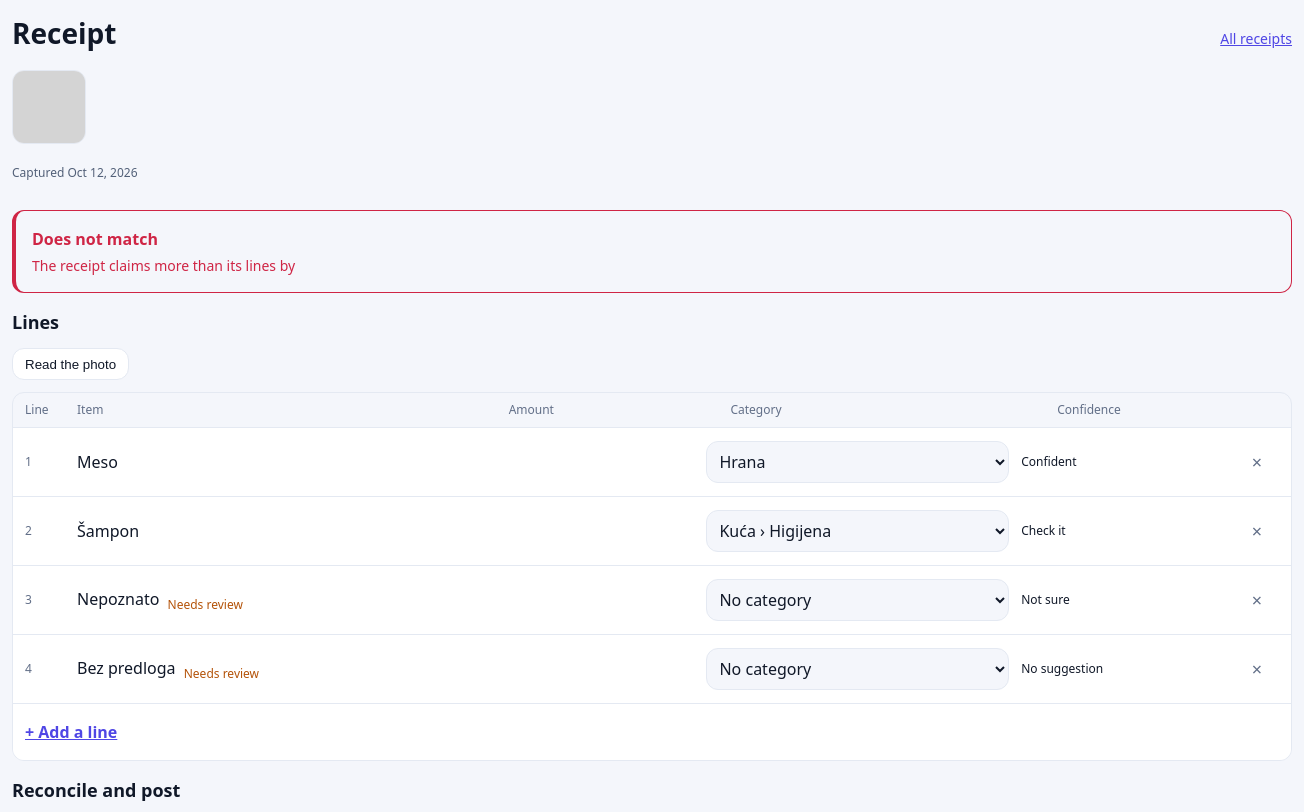
Test: ReceiptDetailComponent (mounted) › refuses a line whose amount cannot be read before it queries anything
Click the button "+ Add a line".
click(71, 732)  # box top-left (25, 716), bottom-right (117, 748)
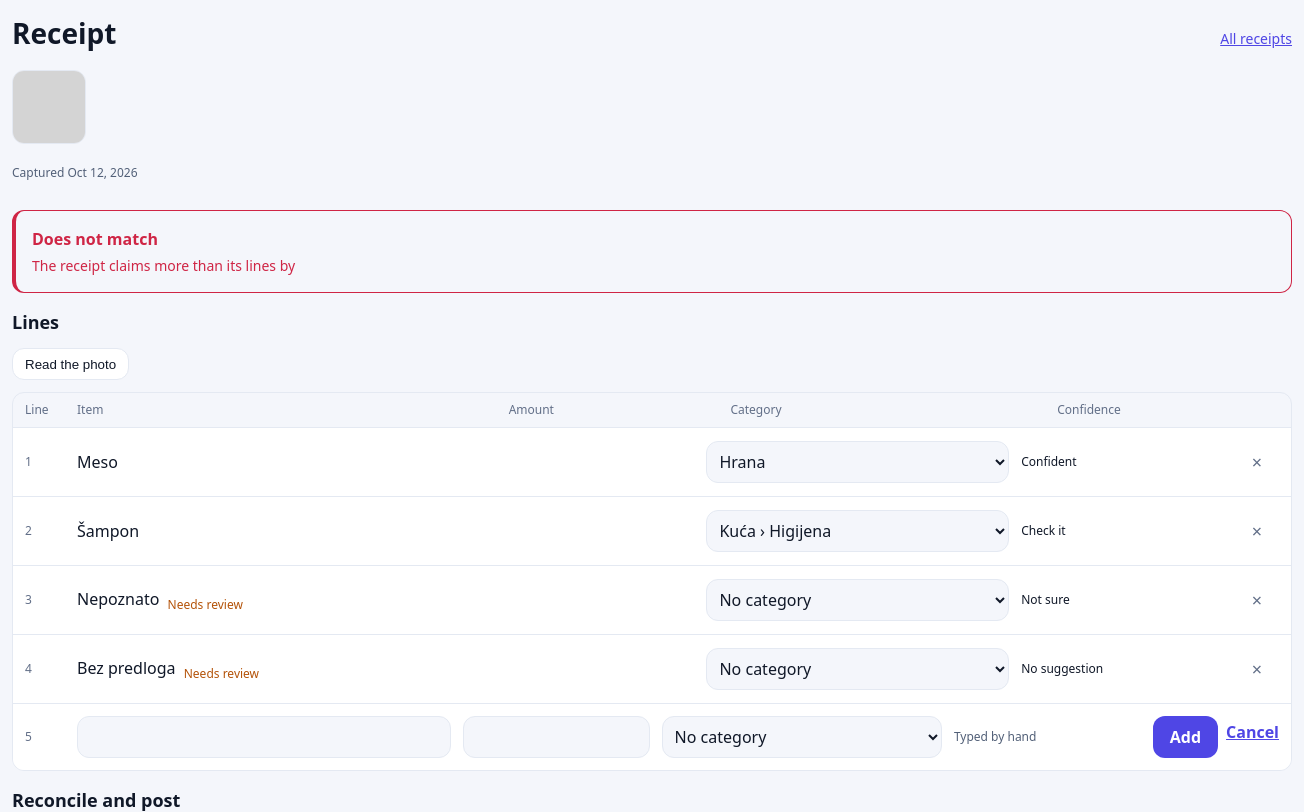
Type "Mleko" into the 1st field with class "items__input".
click(264, 737); type("Mleko")  # box top-left (77, 716), bottom-right (451, 758)
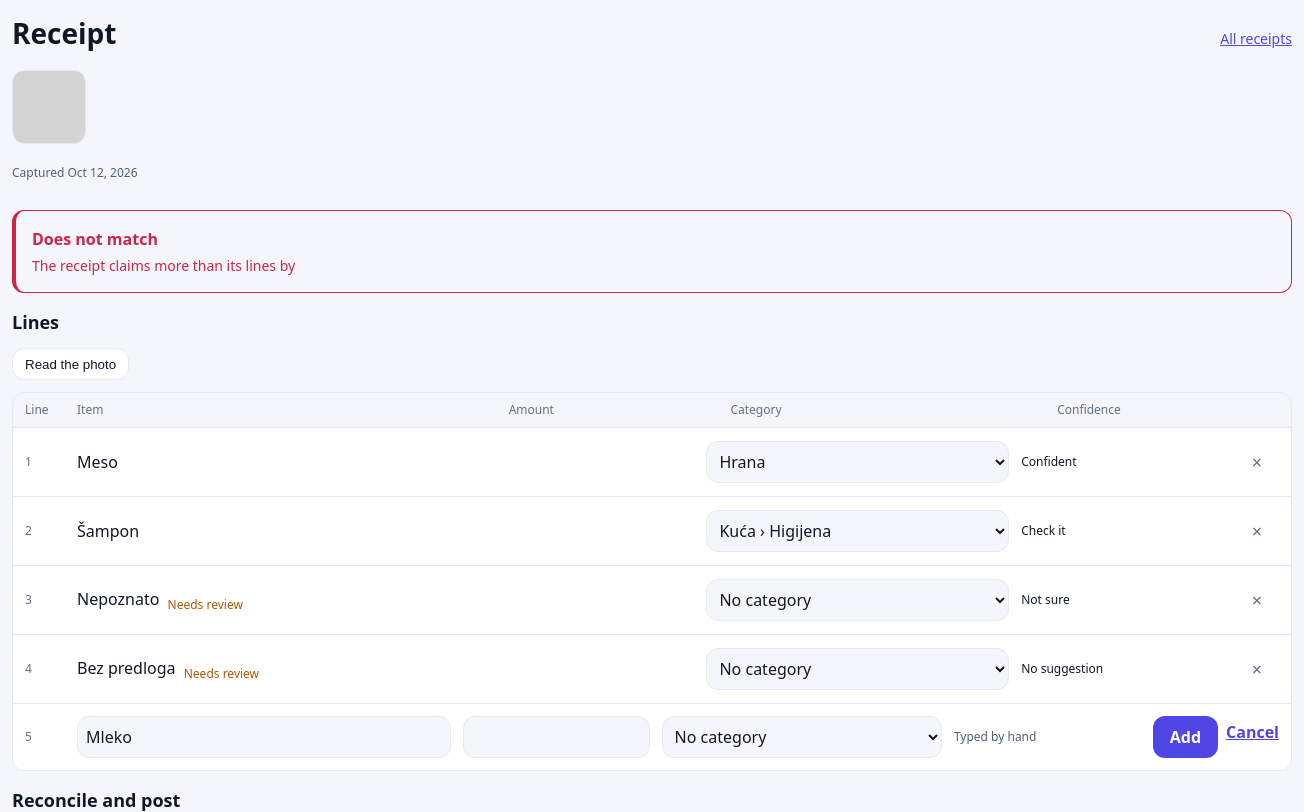
Type "nema" into the 2nd field with class "items__input".
click(556, 737); type("nema")  # box top-left (463, 716), bottom-right (650, 758)
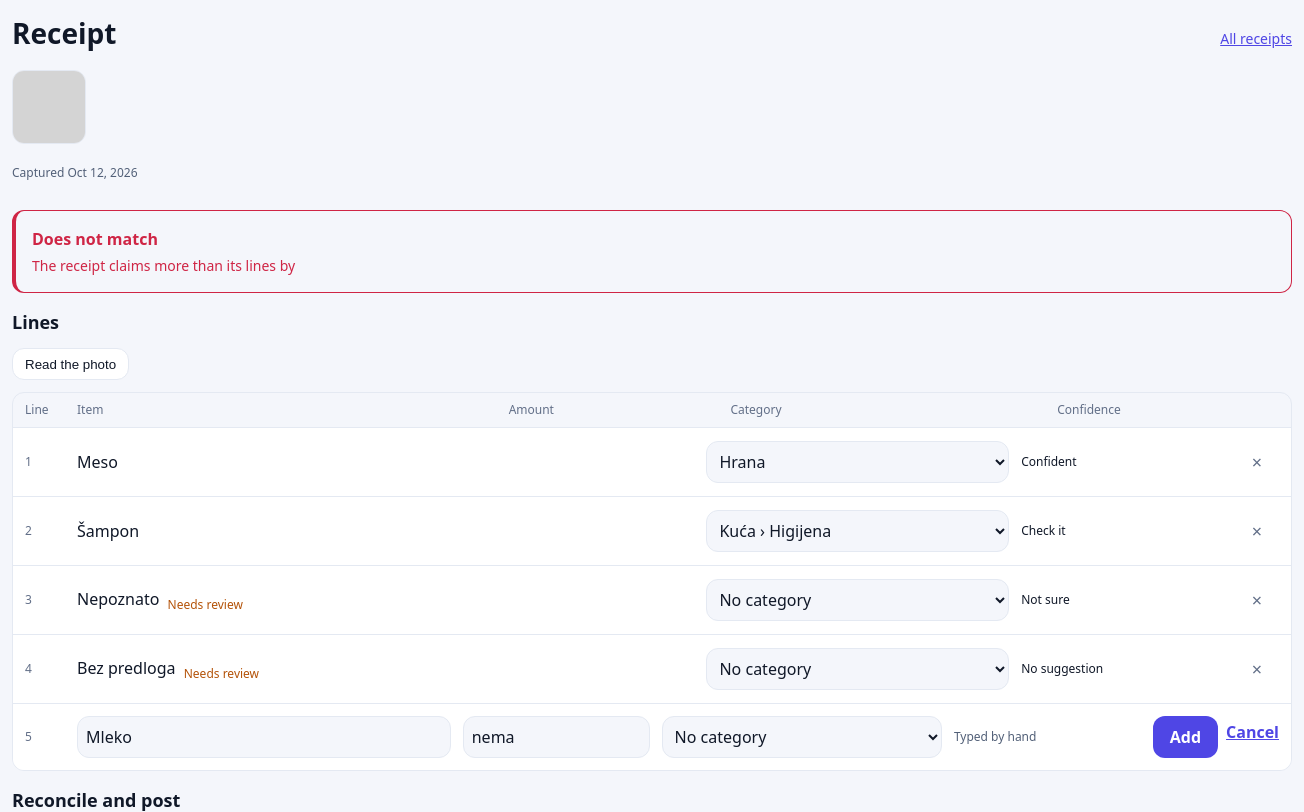
Click the button "Add".
click(1185, 737)  # box top-left (1153, 716), bottom-right (1218, 758)
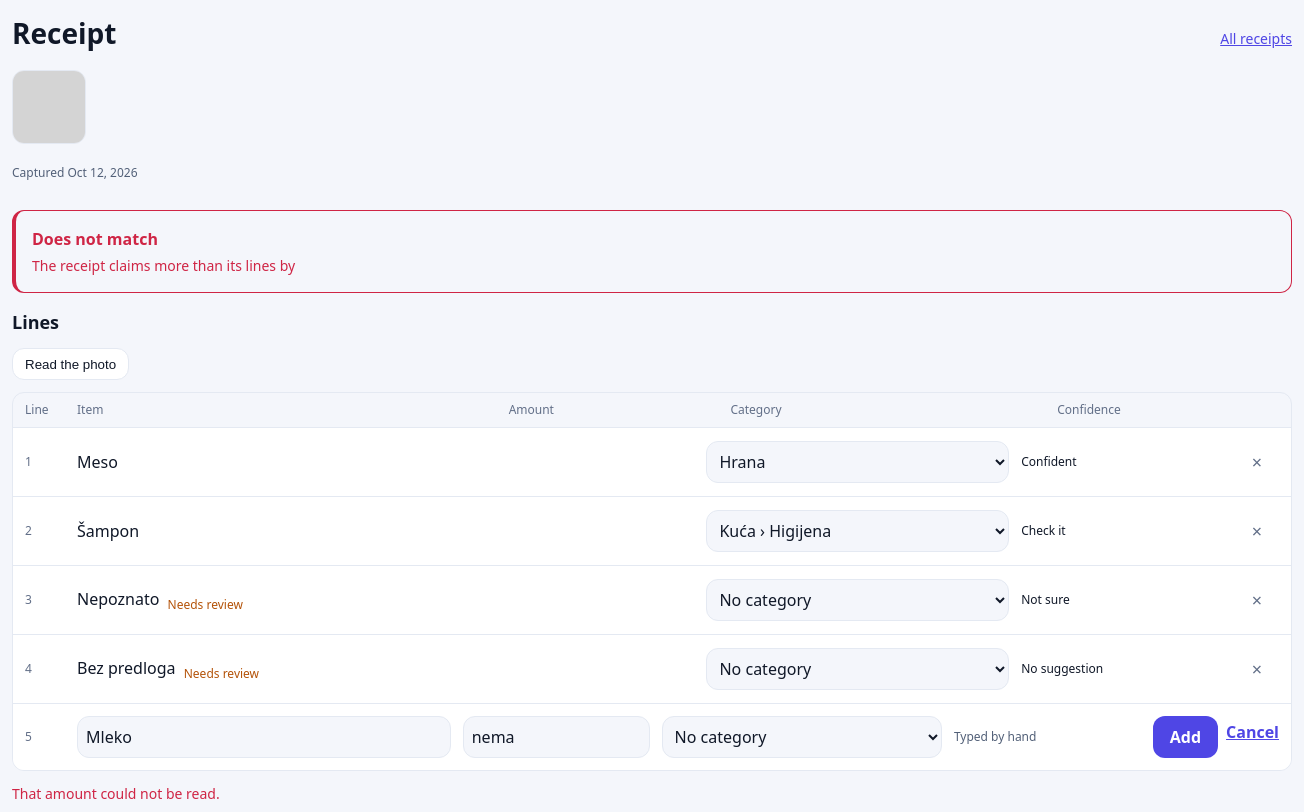
Expected: the text "That amount could not be read." is shown, top-left (12, 784), bottom-right (220, 803)
